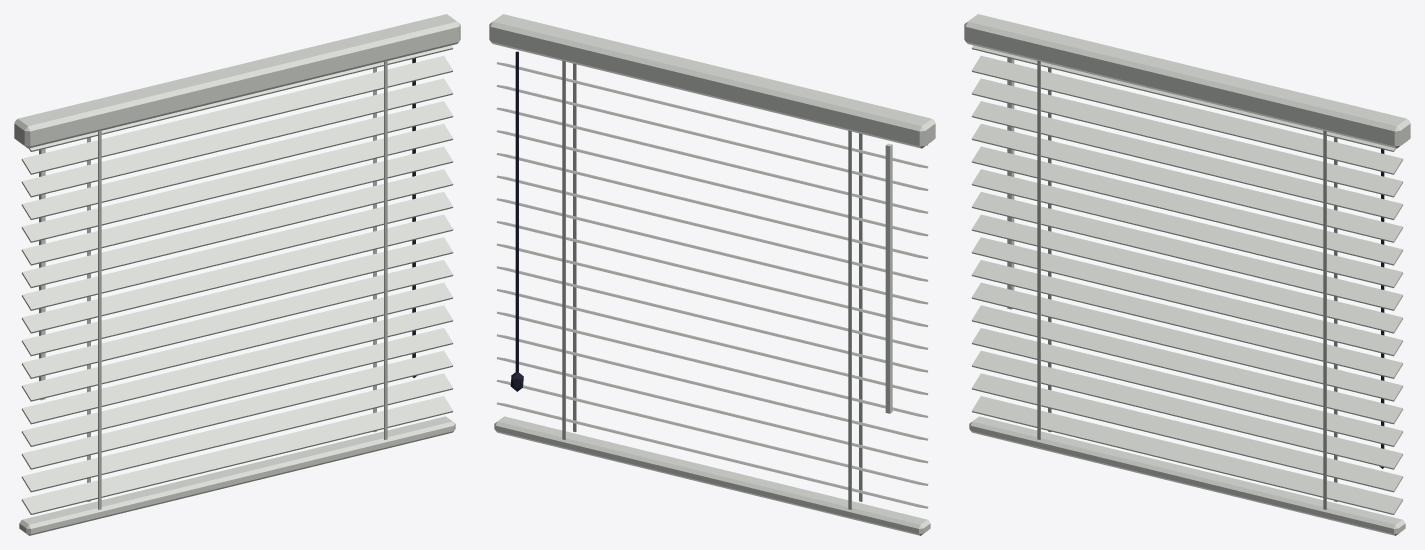
Rendered from sm_env_depot_office_blind.glb.
The picture shows the model from 3 angles, left to right: view 1: azimuth 30°, elevation 25°; view 2: azimuth 150°, elevation 25°; view 3: azimuth 330°, elevation 25°; orthographic projection.
Parts seen in each view (by area): view 1: HeadRail, BottomRail, Slat.002, Slat.015, Slat.010, Slat.011, Slat.014, Slat.003, Slat.006, Slat.012, Slat.001, Slat.007 (+9 smaller); view 2: HeadRail, BottomRail, Wand, Slat, Slat.002, Slat.003, Slat.010, Slat.005, Slat.004, Slat.009, Slat.011, Slat.014 (+12 smaller); view 3: HeadRail, BottomRail, Slat.002, Slat.015, Slat.010, Slat.011, Slat.014, Slat.003, Slat.006, Slat.012, Slat.001, Slat.007 (+9 smaller).
Boxes of the visible parts, x1,y1,x2,y2 form: HeadRail: (14,14,460,148); BottomRail: (19,416,455,535); Slat.002: (21,350,453,469); Slat.015: (21,55,453,174); Slat.010: (21,169,453,288); Slat.011: (21,146,453,265); Slat.014: (21,78,453,197); Slat.003: (21,328,452,446); Slat.006: (22,260,453,378); Slat.012: (21,124,453,242); Slat.001: (21,373,453,492); Slat.007: (21,237,453,356); HeadRail: (489,14,935,148); BottomRail: (494,416,930,535); Wand: (885,143,892,413); Slat: (497,402,928,508); Slat.002: (496,357,928,463); Slat.003: (497,334,927,440); Slat.010: (496,175,928,281); Slat.005: (496,289,928,395); Slat.004: (496,311,928,417); Slat.009: (496,198,928,304); Slat.011: (496,153,928,258); Slat.014: (496,85,928,190); HeadRail: (964,14,1410,148); BottomRail: (969,416,1405,535); Slat.002: (971,350,1403,469); Slat.015: (971,55,1403,174); Slat.010: (971,169,1403,288); Slat.011: (971,146,1403,265); Slat.014: (971,78,1403,197); Slat.003: (972,328,1403,446); Slat.006: (971,260,1402,378); Slat.012: (971,124,1403,242); Slat.001: (971,373,1403,492); Slat.007: (971,237,1403,356).
Bounding box in the file's own units: 1.22 × 1.1 × 0.0953.
